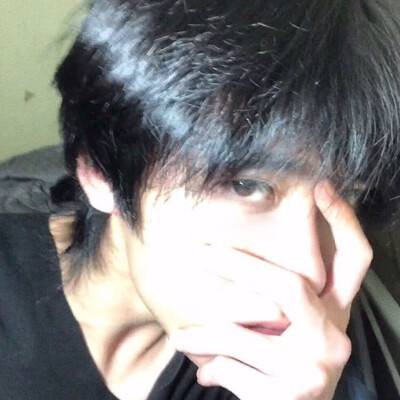person: (57, 16, 355, 377)
